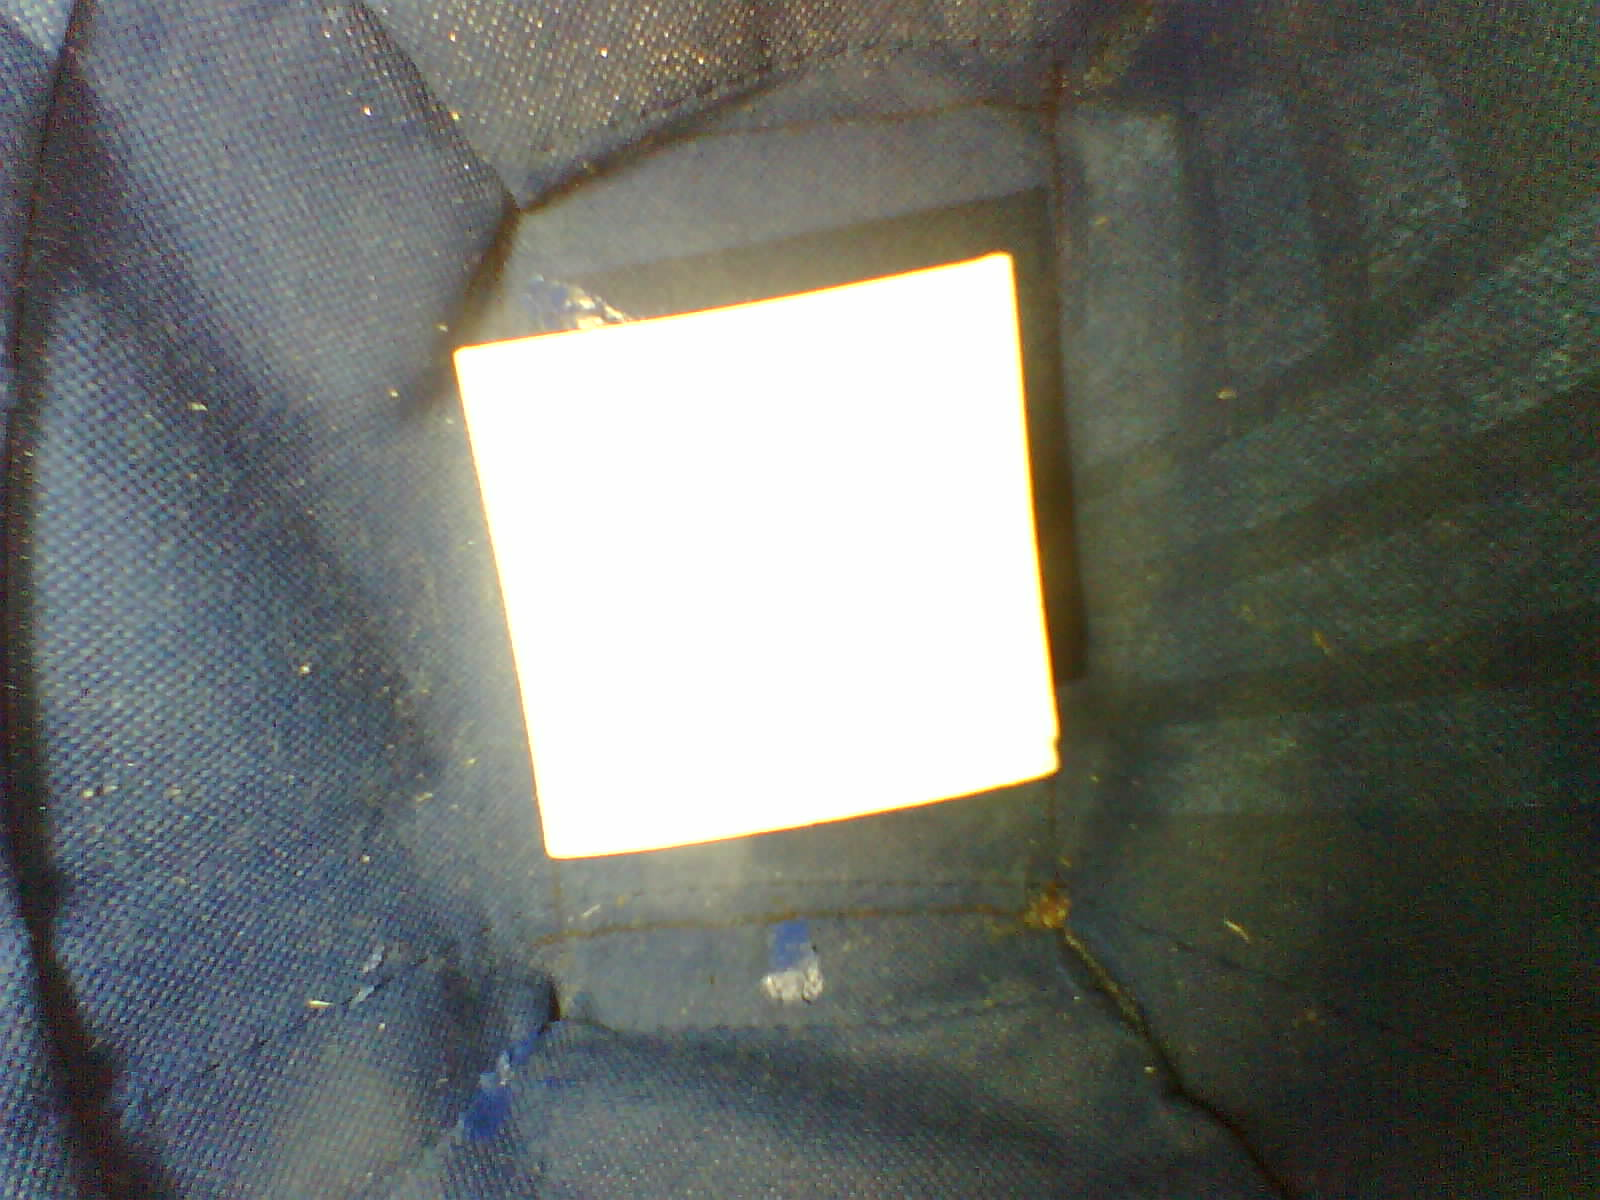cube-hard: (426, 246, 1090, 884)
